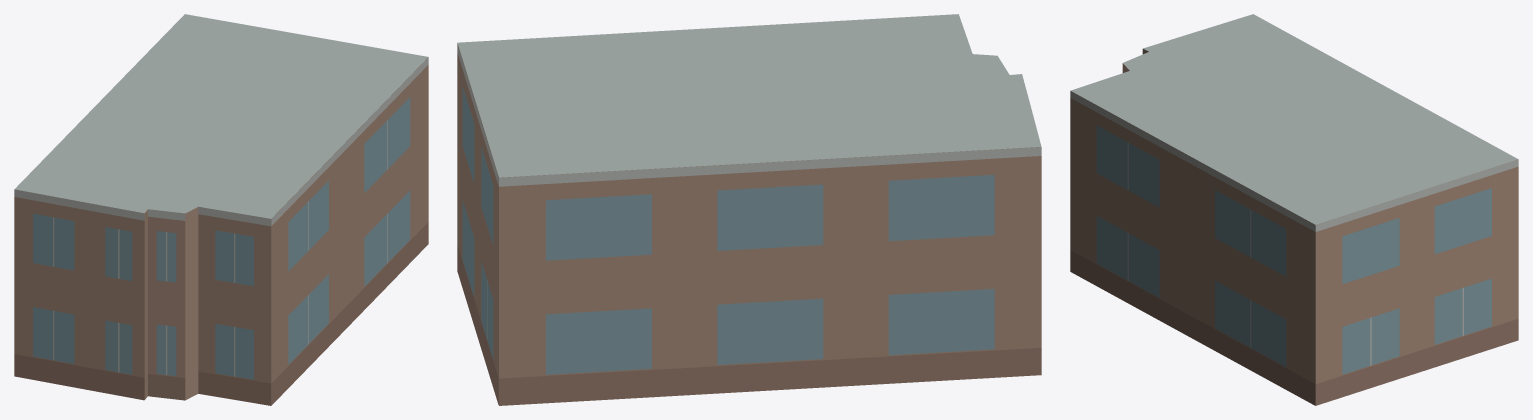
File: survey-upis-32613209.glb
3 views of the same model, side by side, from view 1: azimuth 30°, elevation 25°; view 2: azimuth 150°, elevation 25°; view 3: azimuth 270°, elevation 25° (orthographic). The views are drawn at different scales.
Parts seen in each view (by area): view 1: survey-upis-32613209.tmp; view 2: survey-upis-32613209.tmp; view 3: survey-upis-32613209.tmp.
Part boxes in pixels (x1,y1,x2,y2): survey-upis-32613209.tmp: [14, 14, 428, 405]; survey-upis-32613209.tmp: [457, 14, 1041, 405]; survey-upis-32613209.tmp: [1070, 14, 1518, 405].
Size of the model in its own units: 15.25 by 6.1 by 13.7.
